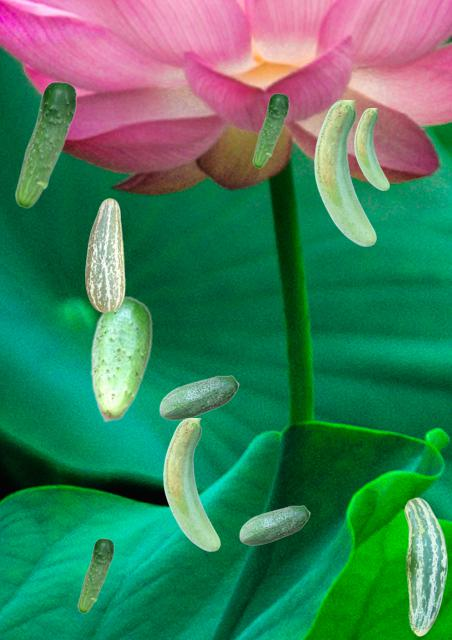cucumber: (314, 100, 375, 245), (14, 81, 76, 207), (90, 295, 151, 421), (163, 418, 219, 550), (404, 497, 446, 635), (85, 198, 124, 311), (159, 375, 238, 419), (354, 108, 388, 189), (239, 505, 309, 544), (252, 93, 288, 167), (77, 538, 113, 612)
